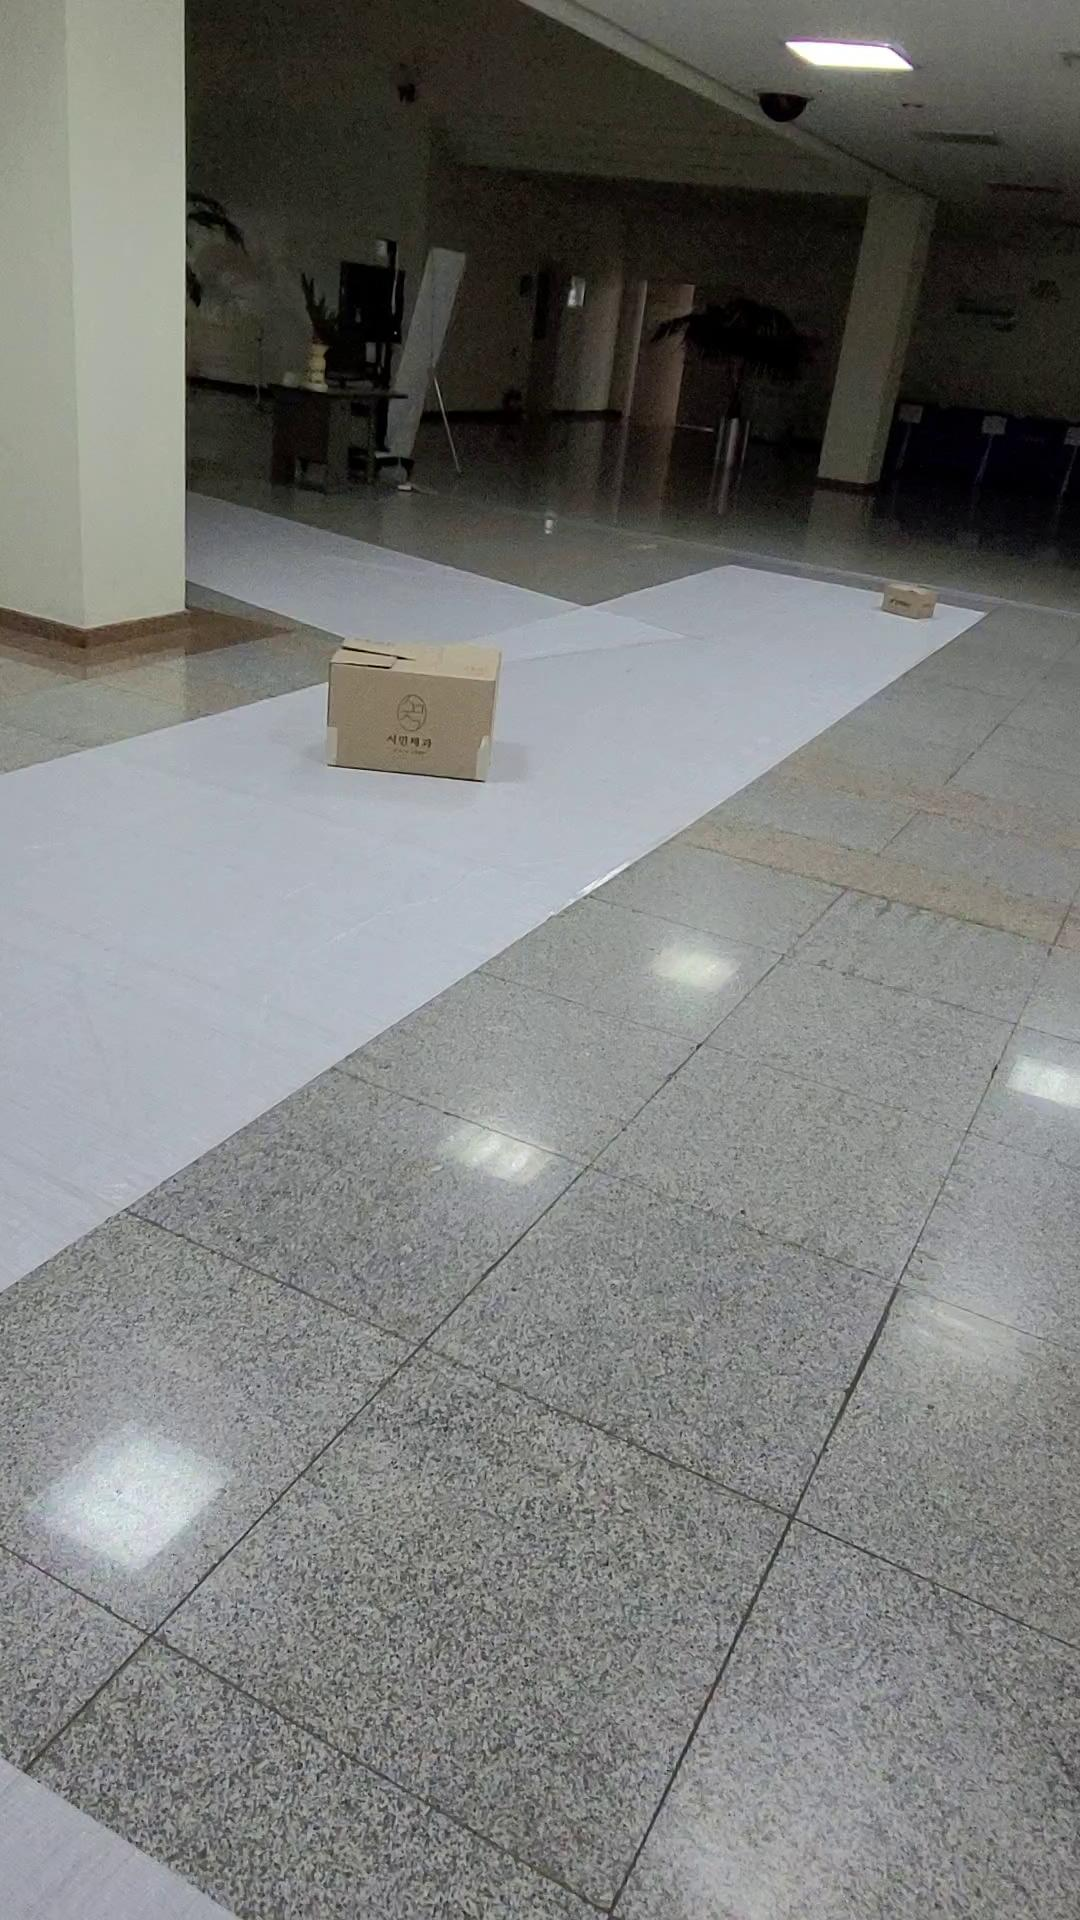Box: (320, 628, 538, 783), (881, 585, 945, 625)
